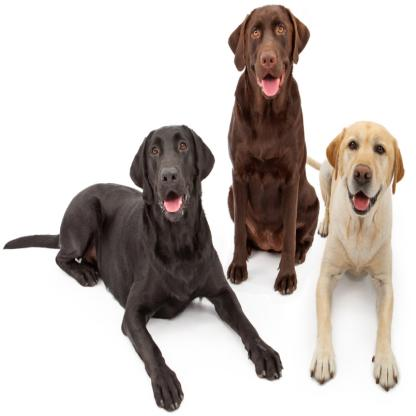Labarador Retriever: (4, 124, 284, 407), (220, 7, 319, 295), (300, 117, 404, 388)
